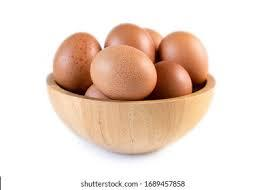egg: (89, 41, 160, 96), (53, 31, 104, 91), (159, 30, 213, 85), (155, 59, 194, 98), (106, 22, 157, 48)
